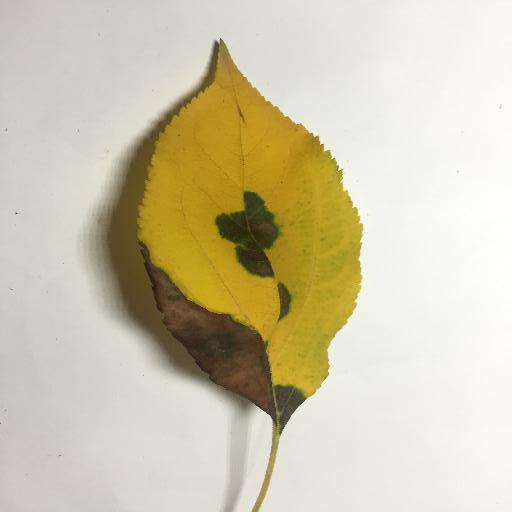Brown_Spot: (140, 263, 289, 420), (214, 213, 285, 280), (277, 286, 290, 316)
